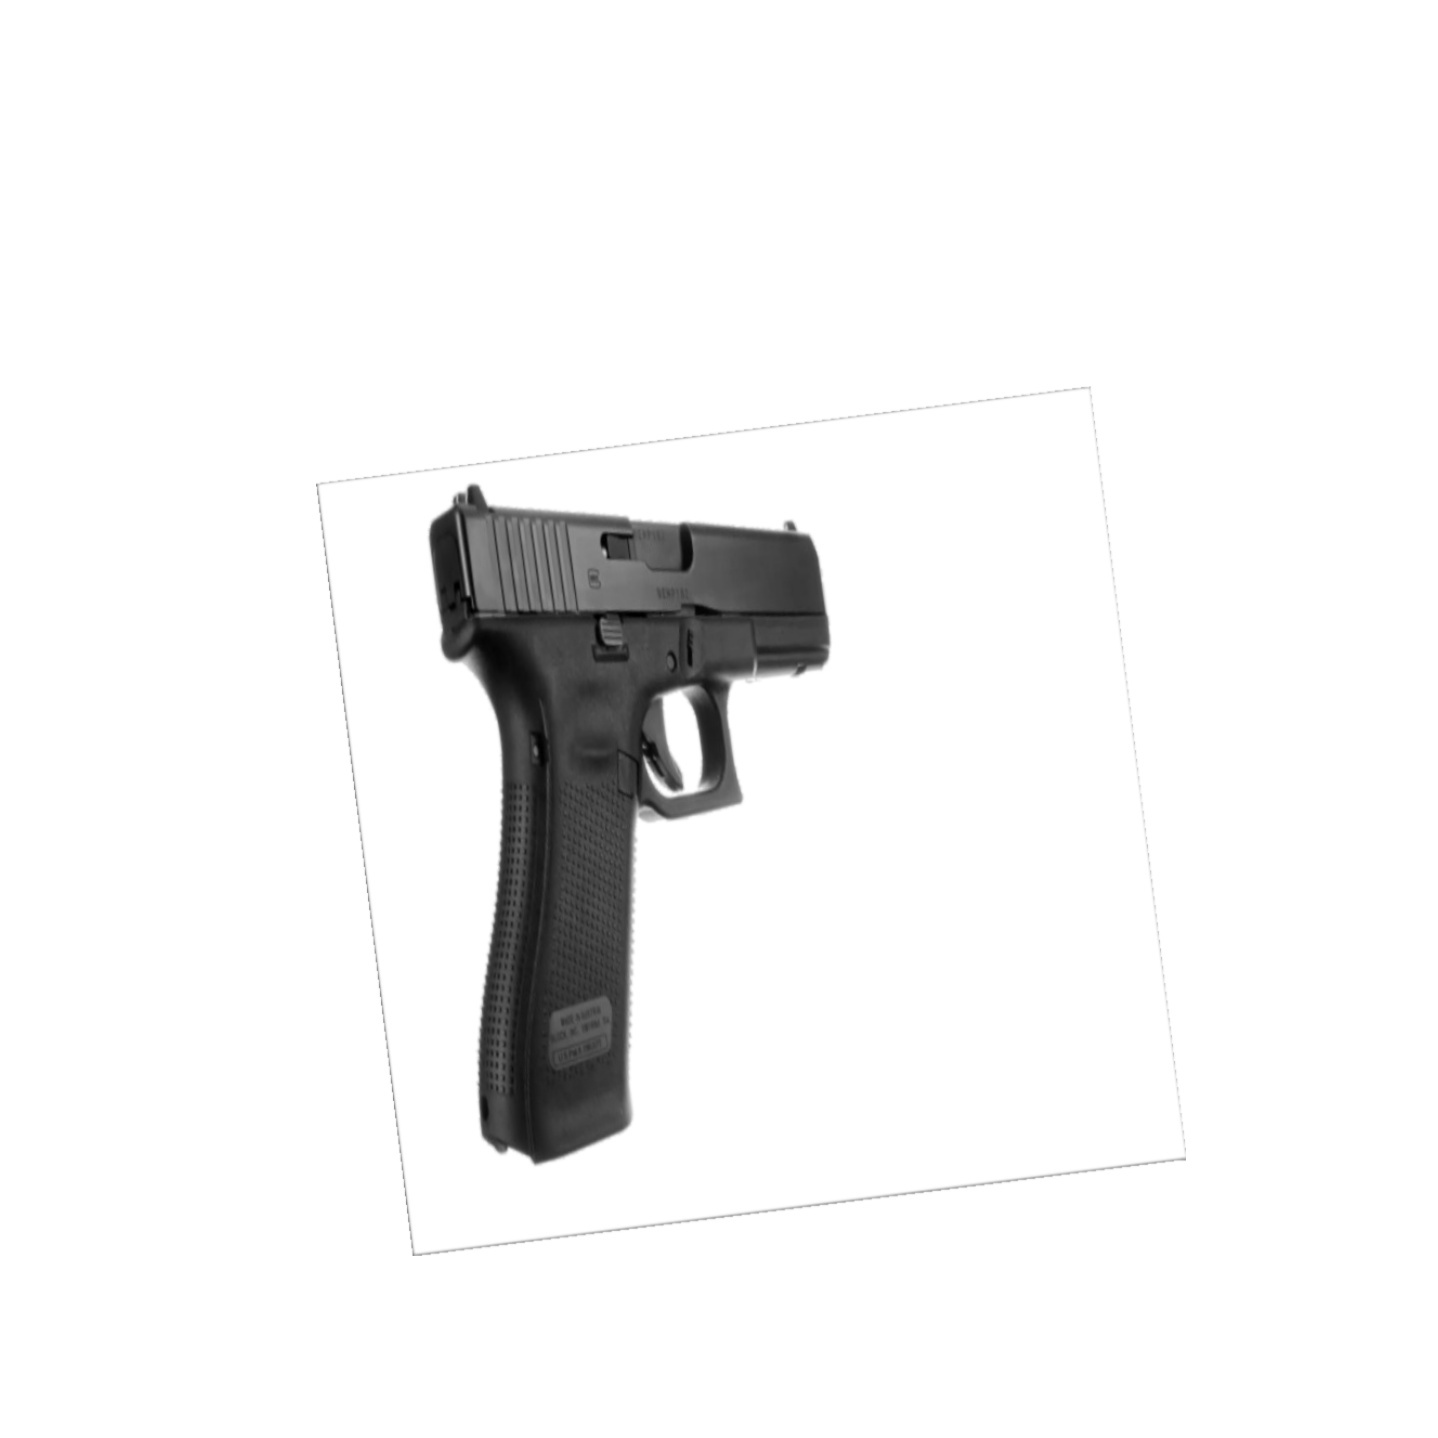gun: (421, 477, 845, 1171)
